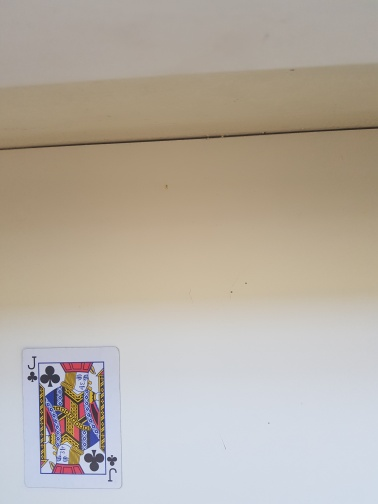jack: (21, 344, 121, 491)
